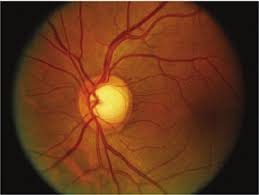Glaucoma section-1: (90, 85, 121, 117)
Glaucoma section-2: (78, 75, 132, 129)
